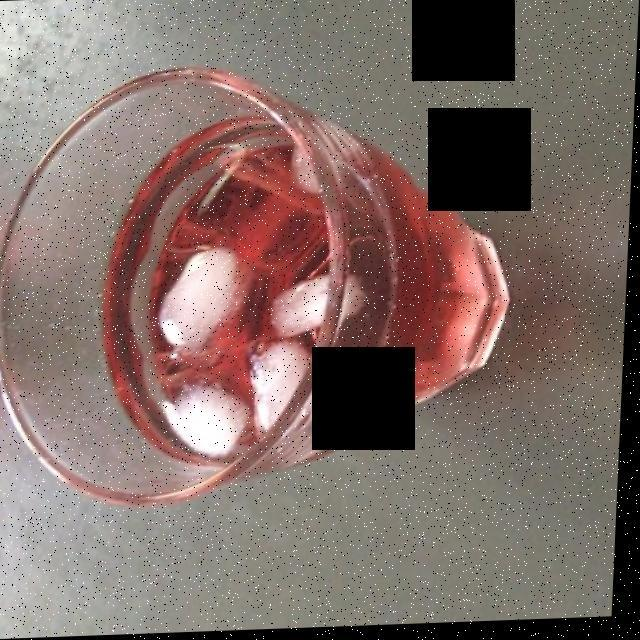drink: (115, 125, 330, 460)
ice-cubes: (156, 144, 351, 459)
